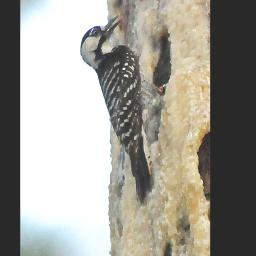Woodpecker: (78, 15, 165, 205)
